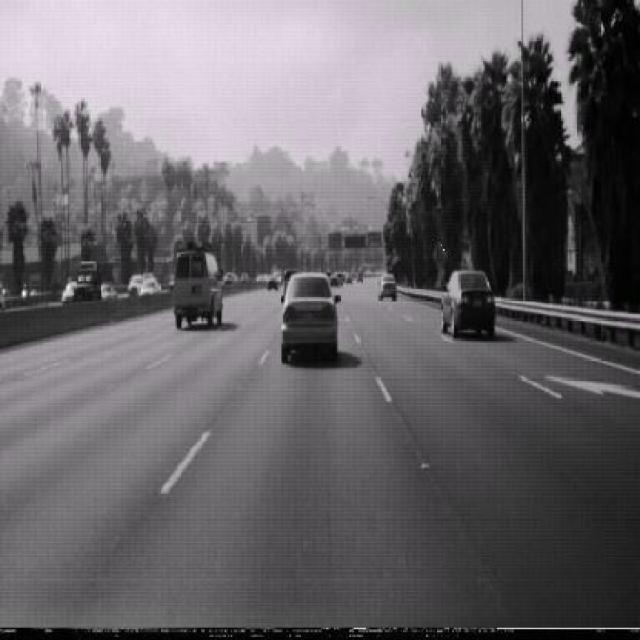laneEnds: (434, 240, 449, 270)
